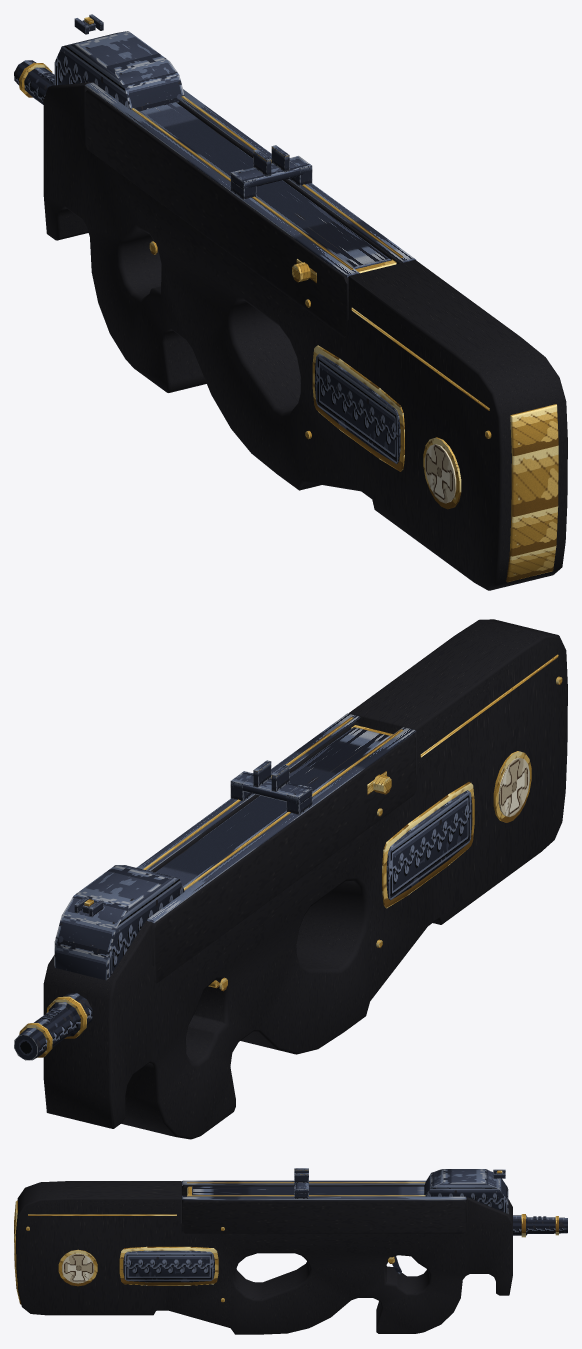
The model's file is smg_bullpup_base.glb.
3 renders of one model, top to bottom at view 1: azimuth 30°, elevation 25°; view 2: azimuth 150°, elevation 25°; view 3: azimuth 270°, elevation 25°, orthographic. The views are drawn at different scales.
Parts seen in each view (by area): view 1: body, magazine; view 2: body, magazine; view 3: body, magazine.
Boxes of the visible parts, x1,y1,x2,y2 form: body: (14, 14, 567, 590); magazine: (140, 102, 396, 273); body: (14, 619, 567, 1139); magazine: (155, 725, 393, 887); body: (14, 1168, 567, 1334); magazine: (187, 1186, 424, 1195).
Bounding box in the file's own units: 0.0427 × 0.1399 × 0.4535.
2 materials, 2 textured.
